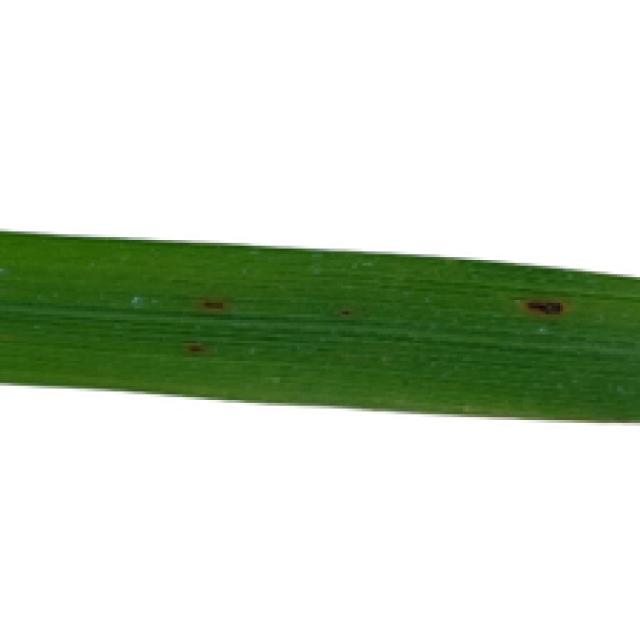Rice___Rice_Blast: (0, 231, 637, 424)
